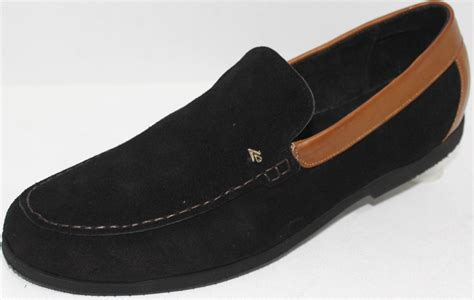gamuza: (4, 46, 463, 284)
